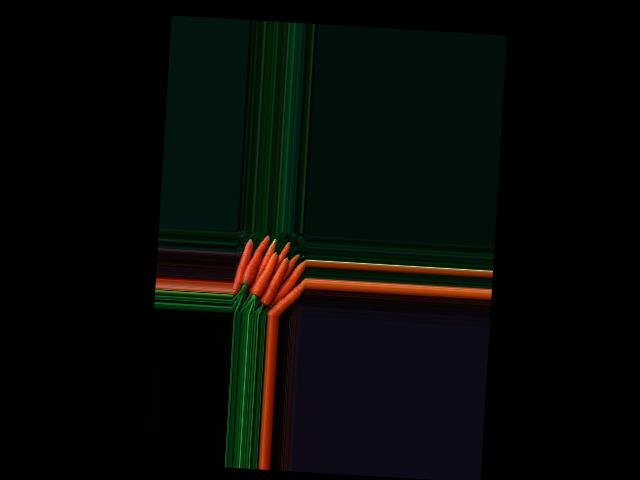carrot: (263, 269, 306, 316)
